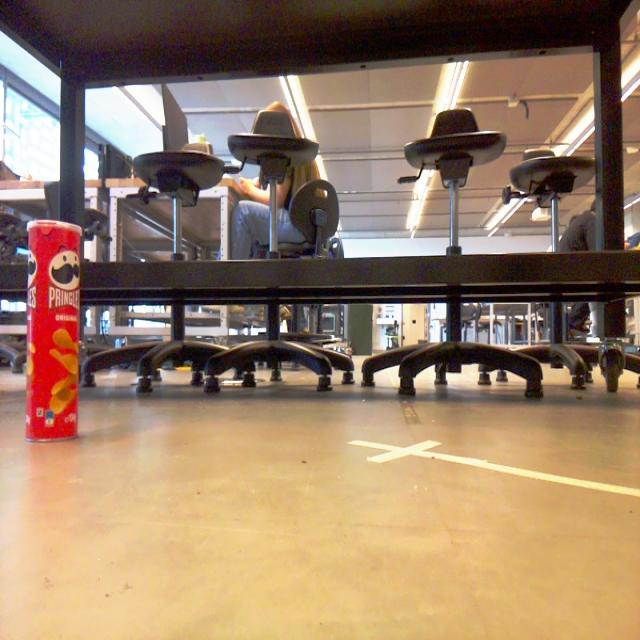redpringles: (20, 203, 94, 470)
